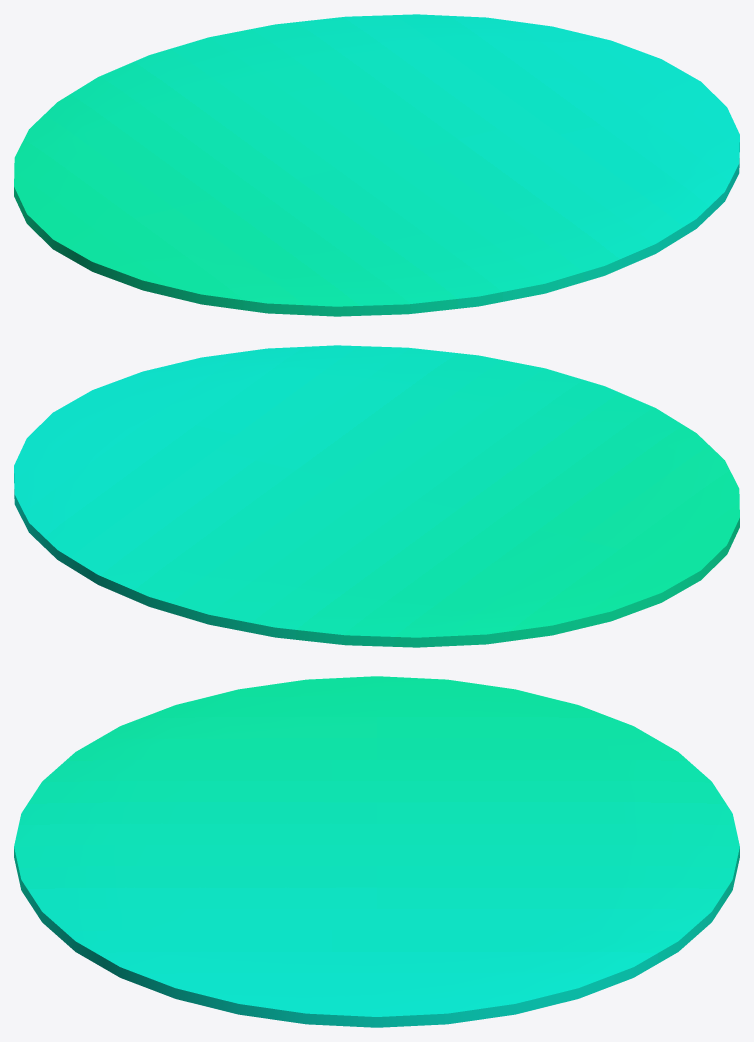
File: yezi.gltf
3 views of the same model, one above another, from view 1: azimuth 30°, elevation 25°; view 2: azimuth 150°, elevation 25°; view 3: azimuth 270°, elevation 25° (orthographic). The views are drawn at different scales.
Parts seen in each view (by area): view 1: pCylinder2; view 2: pCylinder2; view 3: pCylinder2.
Boxes of the visible parts, left/top/right/bottom form: pCylinder2: left=14, top=14, right=739, bottom=316; pCylinder2: left=14, top=345, right=739, bottom=647; pCylinder2: left=14, top=676, right=739, bottom=1027.
Size of the model in its own units: 18.17 by 0.3479 by 16.35.
1 material, 1 textured.
